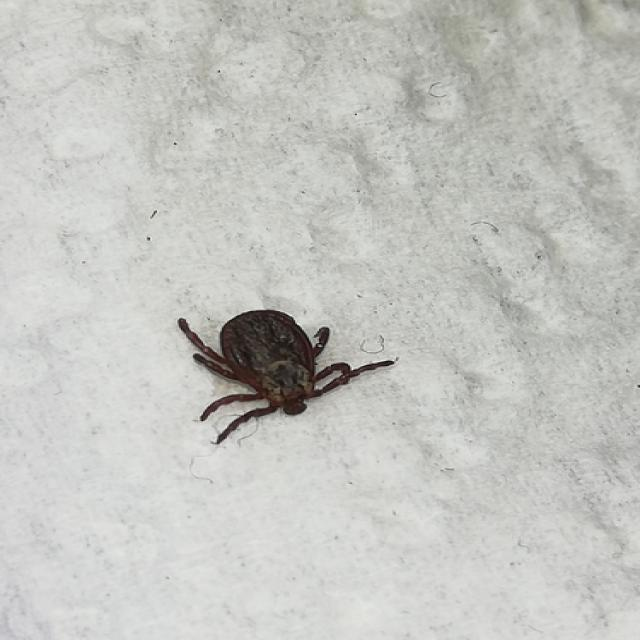Dermacentor Reticulatus-F: (177, 310, 396, 445)
